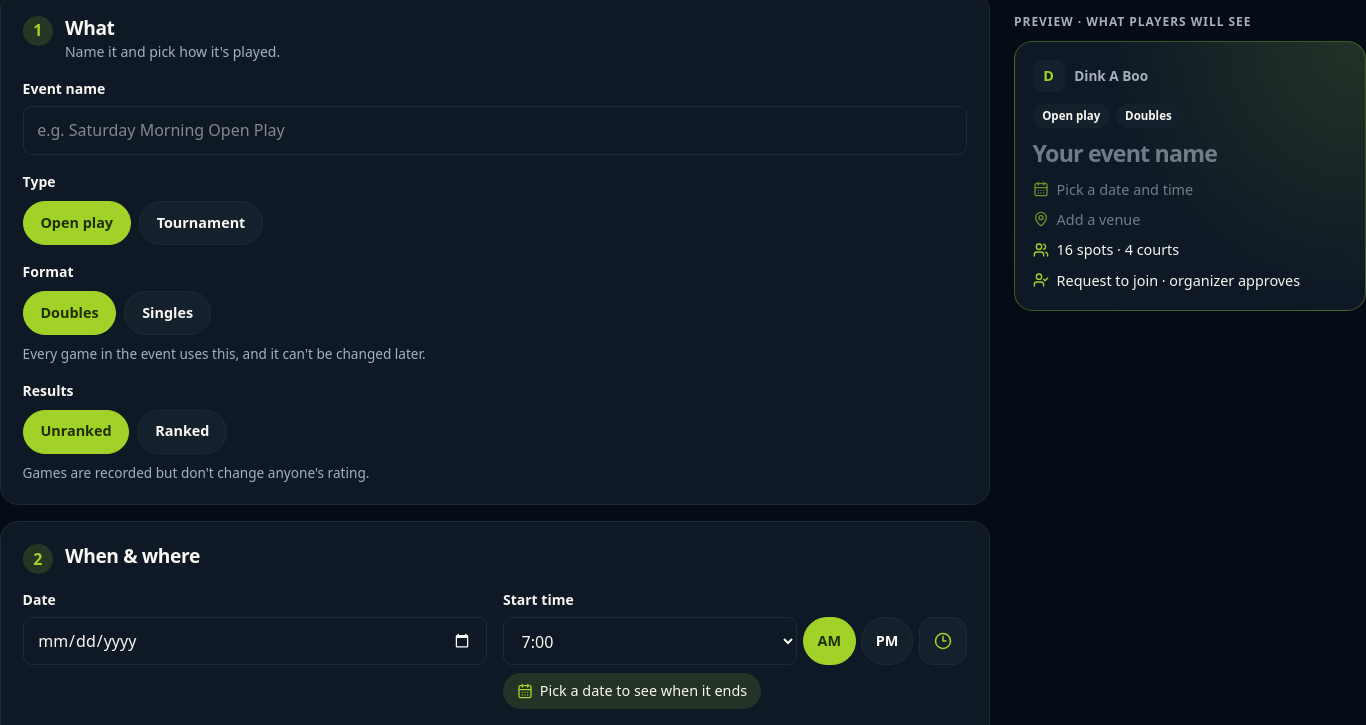
create event form › starts at a picked hour and ends after the chosen length
Type "2030-11-09" into the date field labelled "Date" at x=255, y=641, box [23, 617, 487, 665]
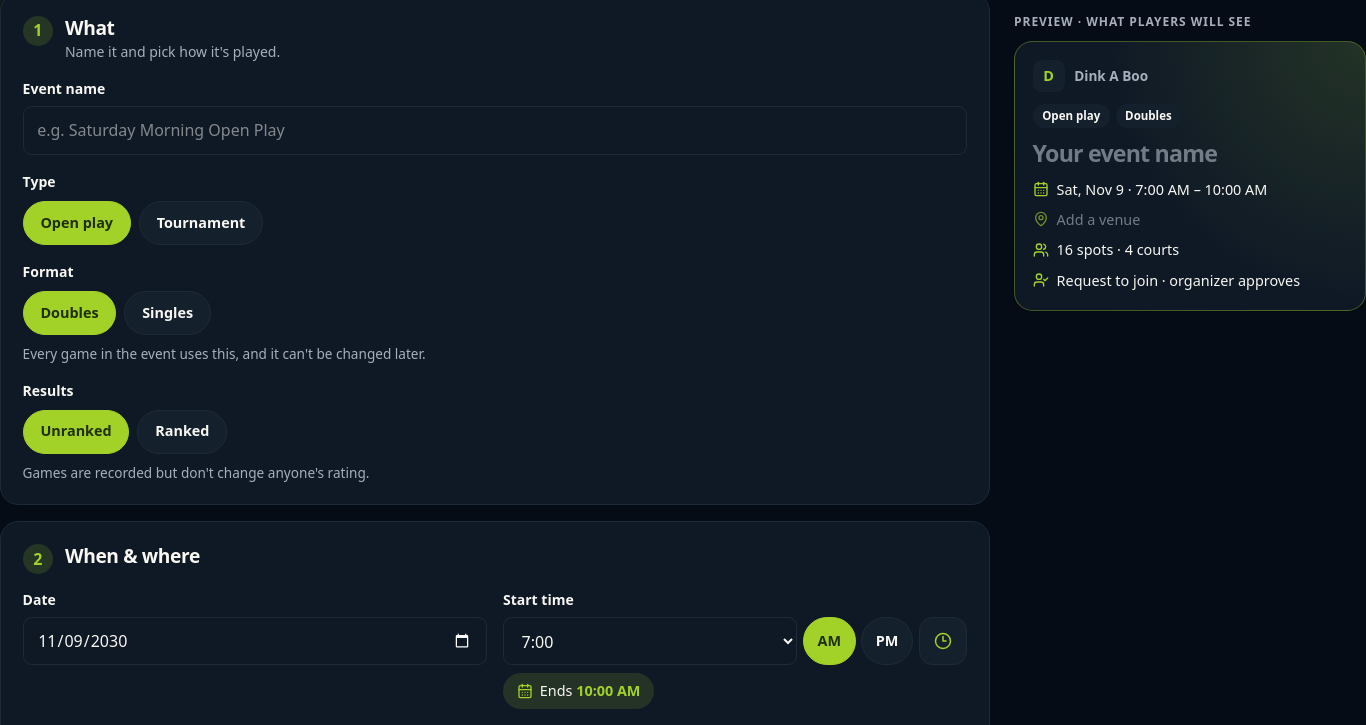
Now the element showing "Ends 10:00 AM" is shown, box [540, 680, 640, 702]
Select "6:00" in the dropdown named "Start hour" at x=650, y=641, box [503, 617, 796, 665]
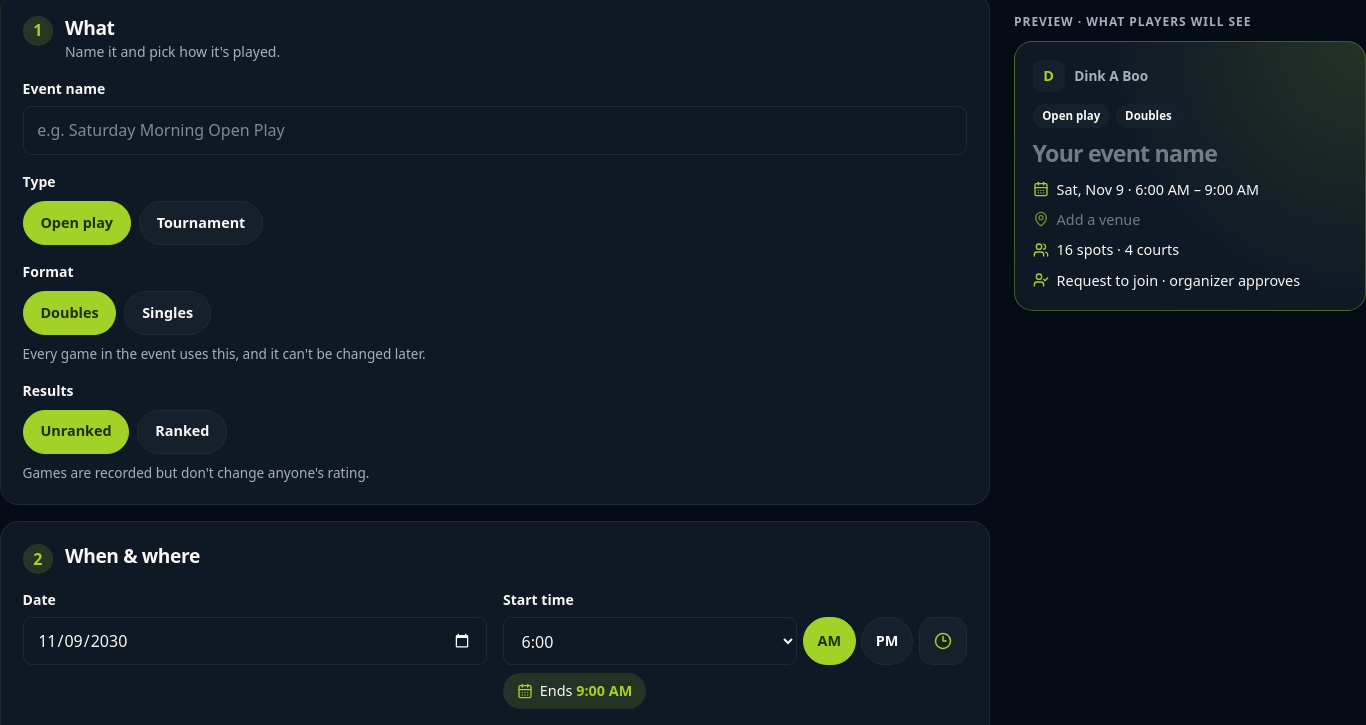
Click the button "PM" at x=887, y=641, box [861, 617, 913, 665]
(page scrolled)
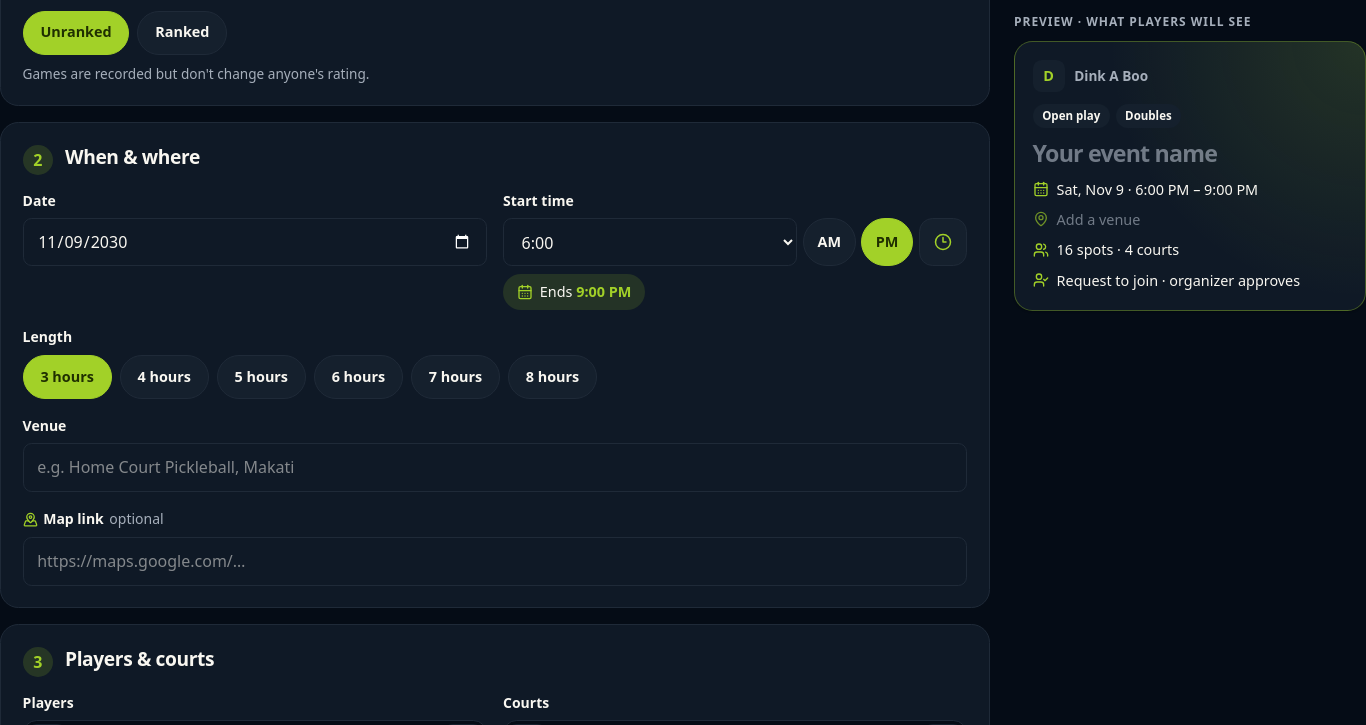
Click the button "8 hours" at x=553, y=377, box [508, 355, 597, 399]
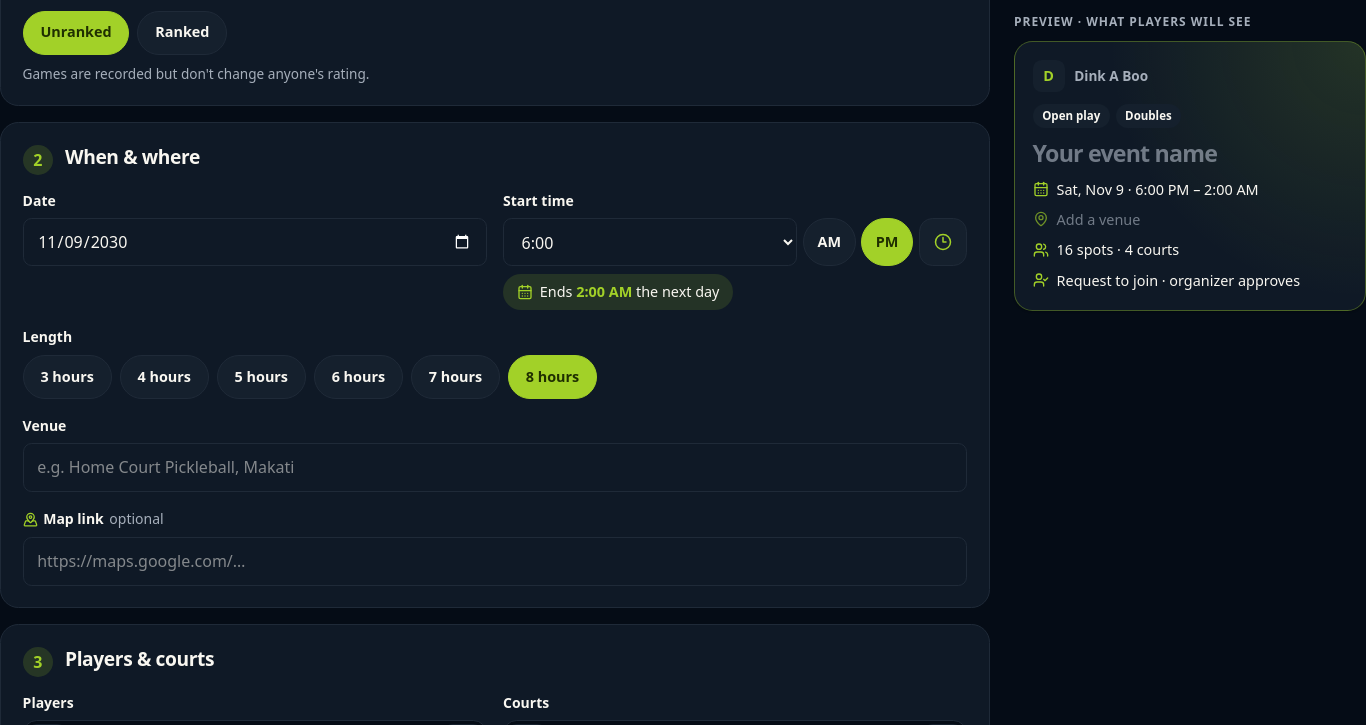
Now the element showing "Ends 2:00 AM the next day" is shown, box [540, 281, 720, 303]
Now the text "Sat, Nov 9 · 6:00 PM – 2:00 AM" is shown, box [1057, 179, 1259, 201]
